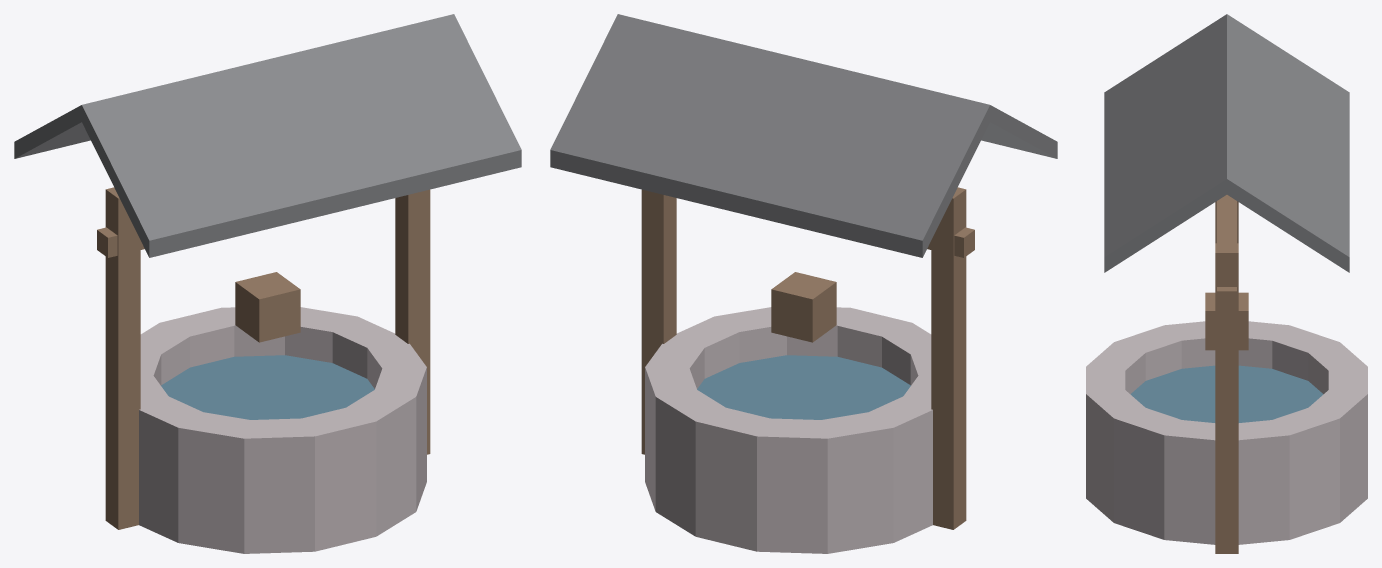
Rendered from well_s1_01.glb.
3 renders of one model, left to right at view 1: azimuth 30°, elevation 25°; view 2: azimuth 150°, elevation 25°; view 3: azimuth 270°, elevation 25°, orthographic. The views are drawn at different scales.
Parts seen in each view (by area): view 1: part01, part03, part02, part00; view 2: part01, part03, part02, part00; view 3: part01, part03, part02, part00.
Part boxes in pixels (left/top/right/bottom): part01: left=14, top=14, right=521, bottom=257; part03: left=139, top=307, right=426, bottom=553; part02: left=97, top=187, right=430, bottom=529; part00: left=161, top=355, right=374, bottom=419; part01: left=550, top=14, right=1057, bottom=257; part03: left=645, top=307, right=932, bottom=553; part02: left=641, top=187, right=974, bottom=529; part00: left=697, top=355, right=910, bottom=419; part01: left=1104, top=14, right=1349, bottom=272; part03: left=1086, top=321, right=1367, bottom=544; part02: left=1205, top=195, right=1248, bottom=553; part00: left=1130, top=365, right=1323, bottom=422.
Size of the model in its own units: 2.7 by 2.97 by 1.95.
